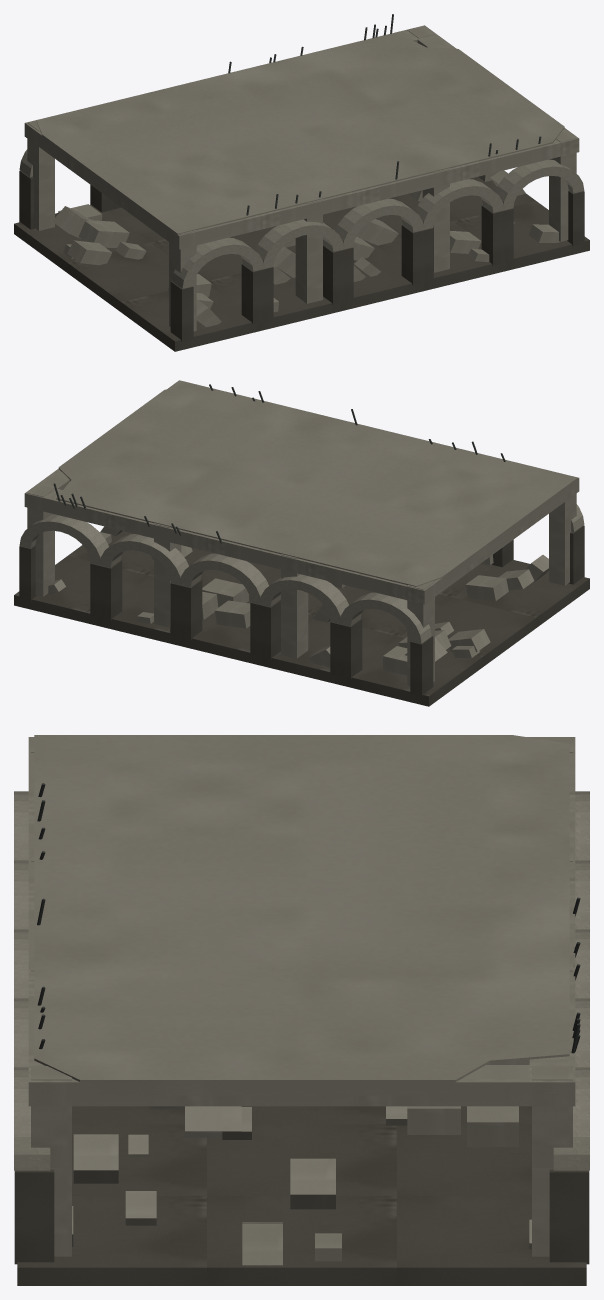
File: ash-ruin-arcade.glb
The picture shows the model from 3 angles, top to bottom: view 1: azimuth 30°, elevation 25°; view 2: azimuth 150°, elevation 25°; view 3: azimuth 270°, elevation 25°; orthographic projection. The views are drawn at different scales.
Visible parts, largest first — view 1: ash-ruin-arcade.001; view 2: ash-ruin-arcade.001; view 3: ash-ruin-arcade.001.
Boxes of the visible parts, x1,y1,x2,y2 form: ash-ruin-arcade.001: [14, 14, 589, 351]; ash-ruin-arcade.001: [14, 380, 589, 706]; ash-ruin-arcade.001: [14, 735, 589, 1285].
Bounding box in the file's own units: 8 × 2.38 × 5.44.
Materials: 1 (1 with a texture image).
